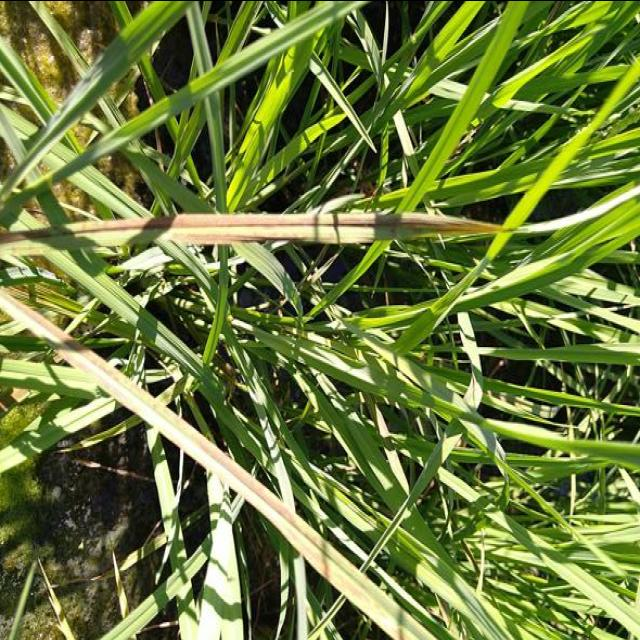Leaf Streak: (0, 285, 426, 640), (0, 213, 501, 246)
